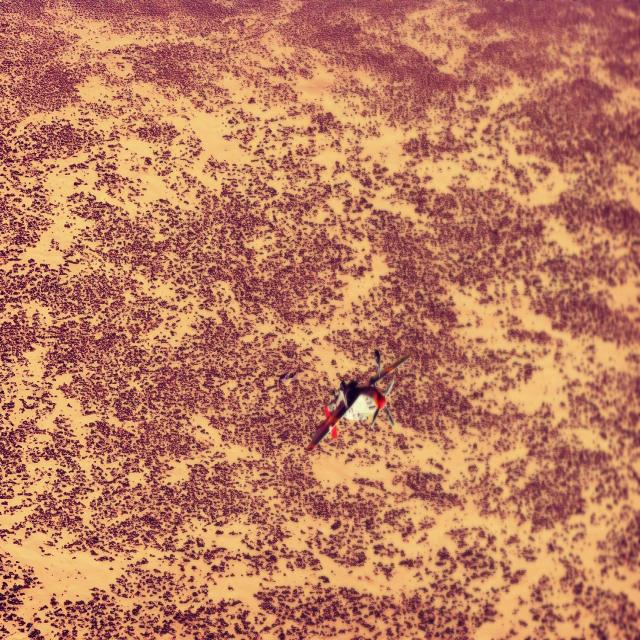airplane: (306, 347, 411, 452)
